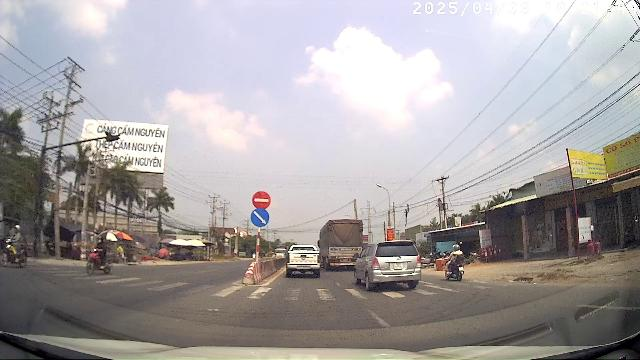102-cam-di-nguoc-chieu: (252, 191, 271, 209)
302a-huong-phai-di-vong-chuong-ngai-vat-1: (251, 209, 269, 226)
